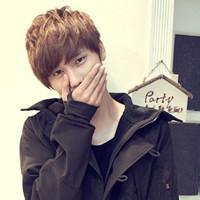face: (49, 39, 100, 106)
